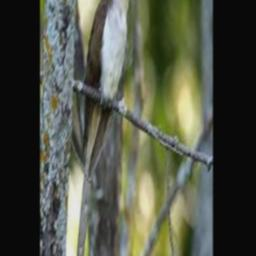Cuckoo: (76, 0, 137, 256)
